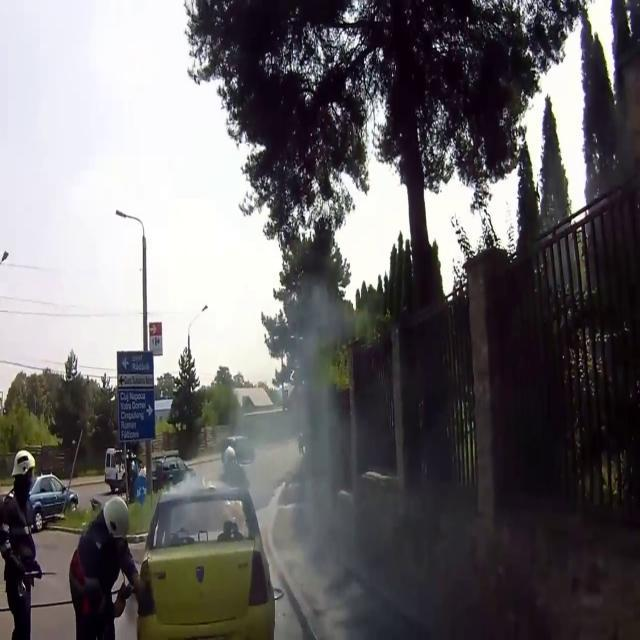Smoke: (238, 251, 368, 630)
